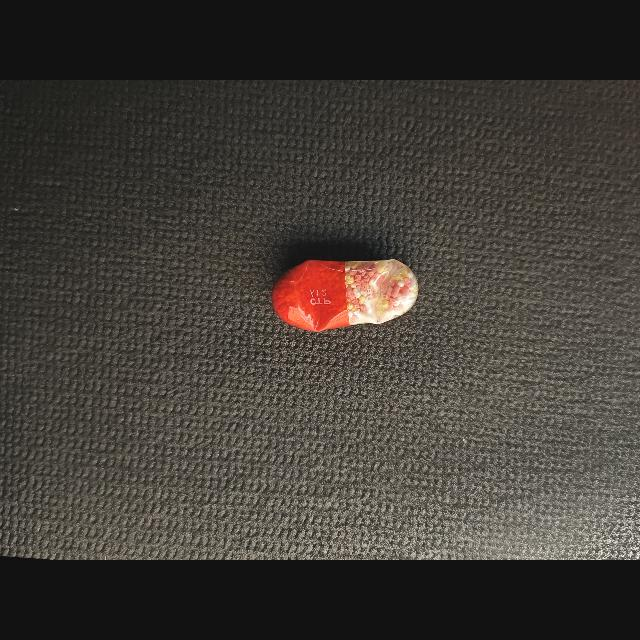Defective Capsule: (271, 259, 419, 332)
